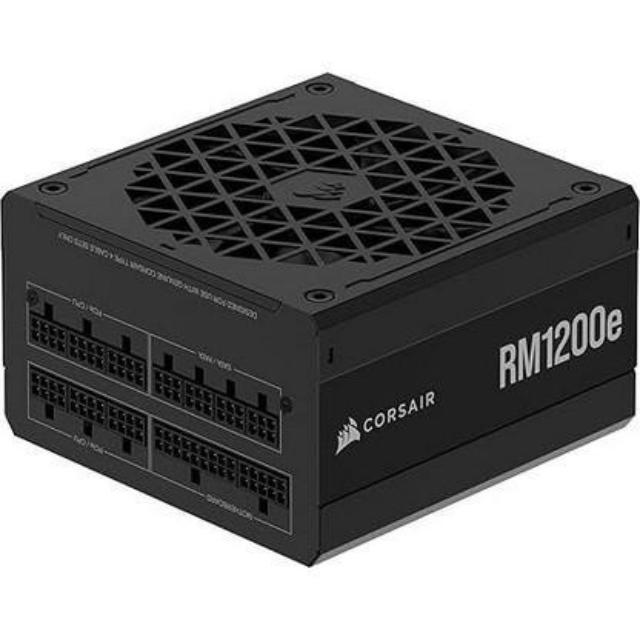PSU: (0, 62, 640, 574)
